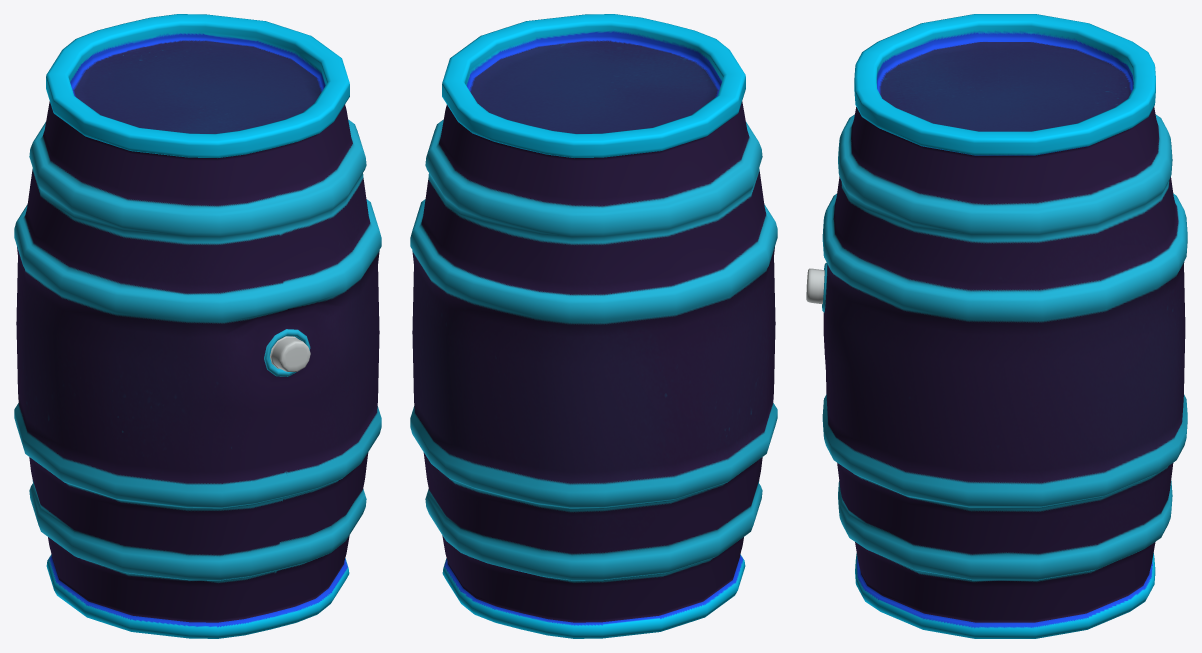
The model's file is GDW_1_Y2 - Barrel.obj.
The picture shows the model from 3 angles, left to right: view 1: azimuth 30°, elevation 25°; view 2: azimuth 150°, elevation 25°; view 3: azimuth 270°, elevation 25°; orthographic projection.
Visible parts, largest first — view 1: Barrel_Cylinder.001; view 2: Barrel_Cylinder.001; view 3: Barrel_Cylinder.001.
Boxes of the visible parts, x1,y1,x2,y2 form: Barrel_Cylinder.001: [14, 14, 381, 638]; Barrel_Cylinder.001: [410, 14, 777, 638]; Barrel_Cylinder.001: [806, 14, 1187, 638].
Size of the model in its own units: 0.5868 by 0.8999 by 0.617.
Materials: 1 (1 with a texture image).
